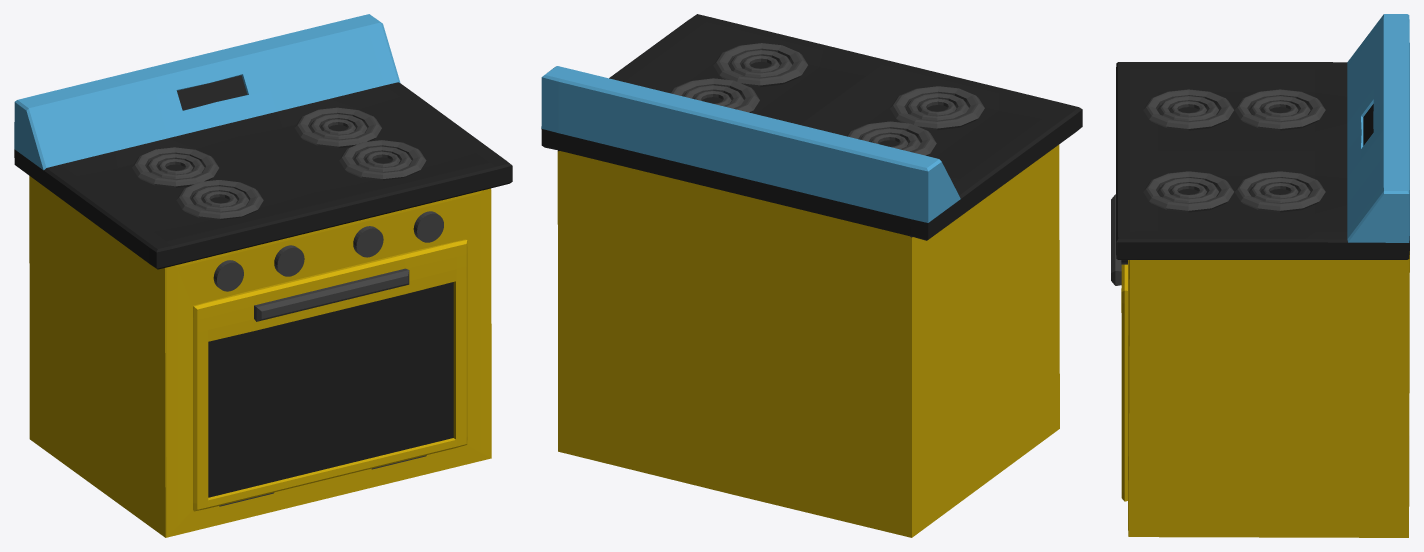
Rendered from LudumDareOvenClosed 1.fbx.
3 renders of one model, left to right at view 1: azimuth 30°, elevation 25°; view 2: azimuth 150°, elevation 25°; view 3: azimuth 270°, elevation 25°, orthographic. The views are drawn at different scales.
Parts seen in each view (by area): view 1: Closed Oven, Closed Oven.004, Closed Oven.007, Closed Oven.009, Closed Oven.008, Closed Oven.002, Closed Oven.001, Closed Oven.005, Closed Oven.003; view 2: Closed Oven, Closed Oven.004, Closed Oven.009, Closed Oven.002; view 3: Closed Oven, Closed Oven.004, Closed Oven.009, Closed Oven.002, Closed Oven.008, Closed Oven.005.
Part boxes in pixels (x1=…): Closed Oven: x1=29, y1=176, x2=491, y2=537; Closed Oven.004: x1=14, y1=82, x2=512, y2=269; Closed Oven.007: x1=208, y1=282, x2=453, y2=497; Closed Oven.009: x1=14, y1=14, x2=400, y2=170; Closed Oven.008: x1=193, y1=239, x2=467, y2=511; Closed Oven.002: x1=132, y1=107, x2=426, y2=219; Closed Oven.001: x1=213, y1=211, x2=443, y2=291; Closed Oven.005: x1=254, y1=268, x2=409, y2=321; Closed Oven.003: x1=177, y1=75, x2=247, y2=110; Closed Oven: x1=557, y1=144, x2=1059, y2=537; Closed Oven.004: x1=541, y1=14, x2=1082, y2=240; Closed Oven.009: x1=541, y1=66, x2=960, y2=222; Closed Oven.002: x1=670, y1=43, x2=984, y2=155; Closed Oven: x1=1128, y1=251, x2=1409, y2=537; Closed Oven.004: x1=1116, y1=62, x2=1409, y2=259; Closed Oven.009: x1=1347, y1=14, x2=1409, y2=242; Closed Oven.002: x1=1143, y1=89, x2=1325, y2=212; Closed Oven.008: x1=1121, y1=264, x2=1127, y2=501; Closed Oven.005: x1=1111, y1=194, x2=1121, y2=285.
Size of the model in its own units: 106 by 97.79 by 74.84.
